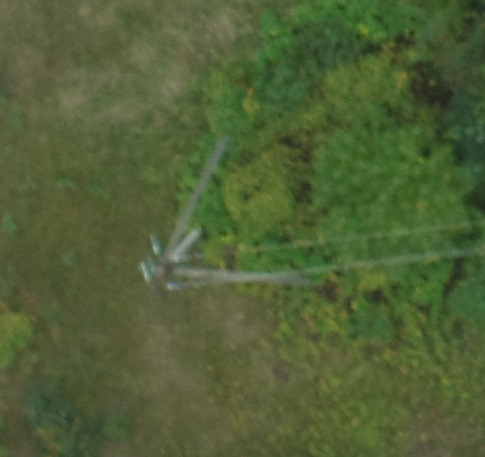opora: (138, 133, 331, 298)
